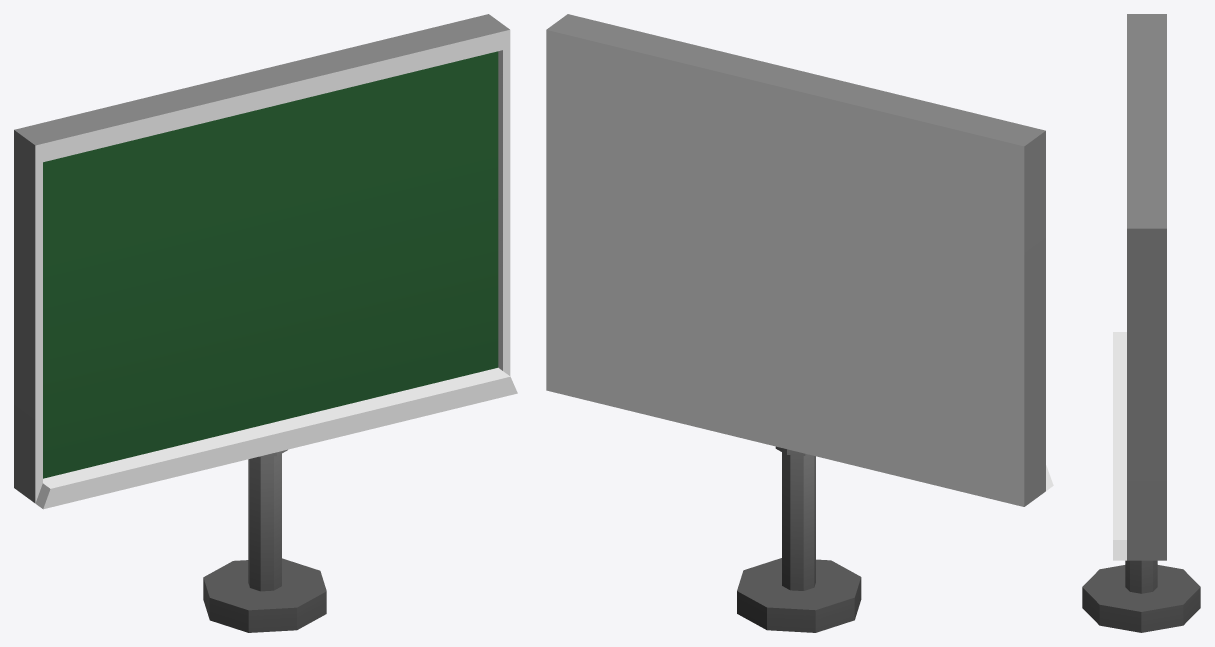
File: Board.fbx
3 renders of one model, left to right at view 1: azimuth 30°, elevation 25°; view 2: azimuth 150°, elevation 25°; view 3: azimuth 270°, elevation 25°, orthographic. The views are drawn at different scales.
Parts seen in each view (by area): view 1: Cylinder; view 2: Cylinder; view 3: Cylinder.
Part boxes in pixels (x1,y1,x2,y2): Cylinder: [14, 14, 517, 632]; Cylinder: [546, 14, 1053, 632]; Cylinder: [1082, 14, 1200, 632].
Bounding box in the file's own units: 225 × 238 × 52.41.
